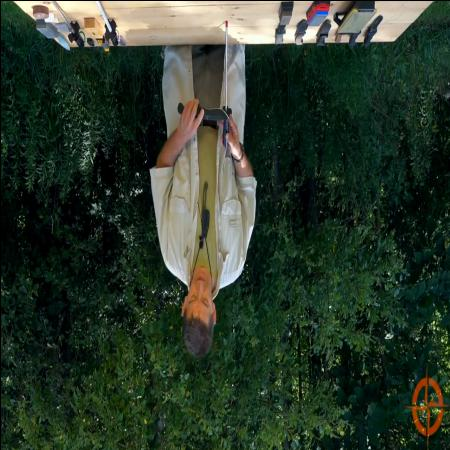long weapon: (174, 96, 228, 124)
